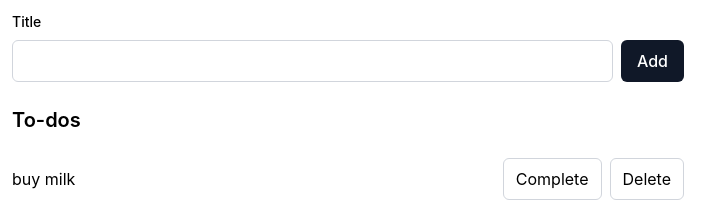
Test: TodoItem › deletes with 204 and focuses the heading, empty=true
The width and height of the screenshot is (702, 217).
Click the button with aria-label "Delete buy milk".
click(647, 179)  # box [610,158,684,200]
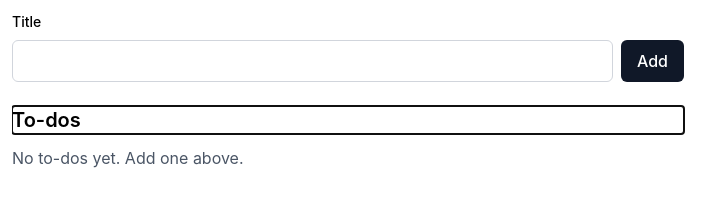
Expected: the text "buy milk" is gone
Expected: the text "No to-dos yet. Add one above." is shown, [12,148,244,168]
